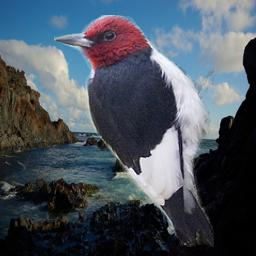Woodpecker: (54, 15, 214, 247)
